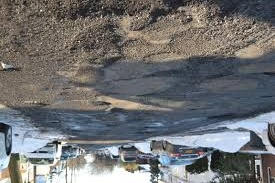pothole: (45, 0, 184, 18), (66, 18, 119, 52), (95, 94, 172, 117), (105, 75, 180, 94), (110, 60, 169, 81), (53, 64, 111, 83), (201, 77, 257, 92), (88, 52, 122, 67), (237, 43, 265, 60), (126, 18, 151, 31), (0, 59, 19, 74), (17, 97, 48, 106)
